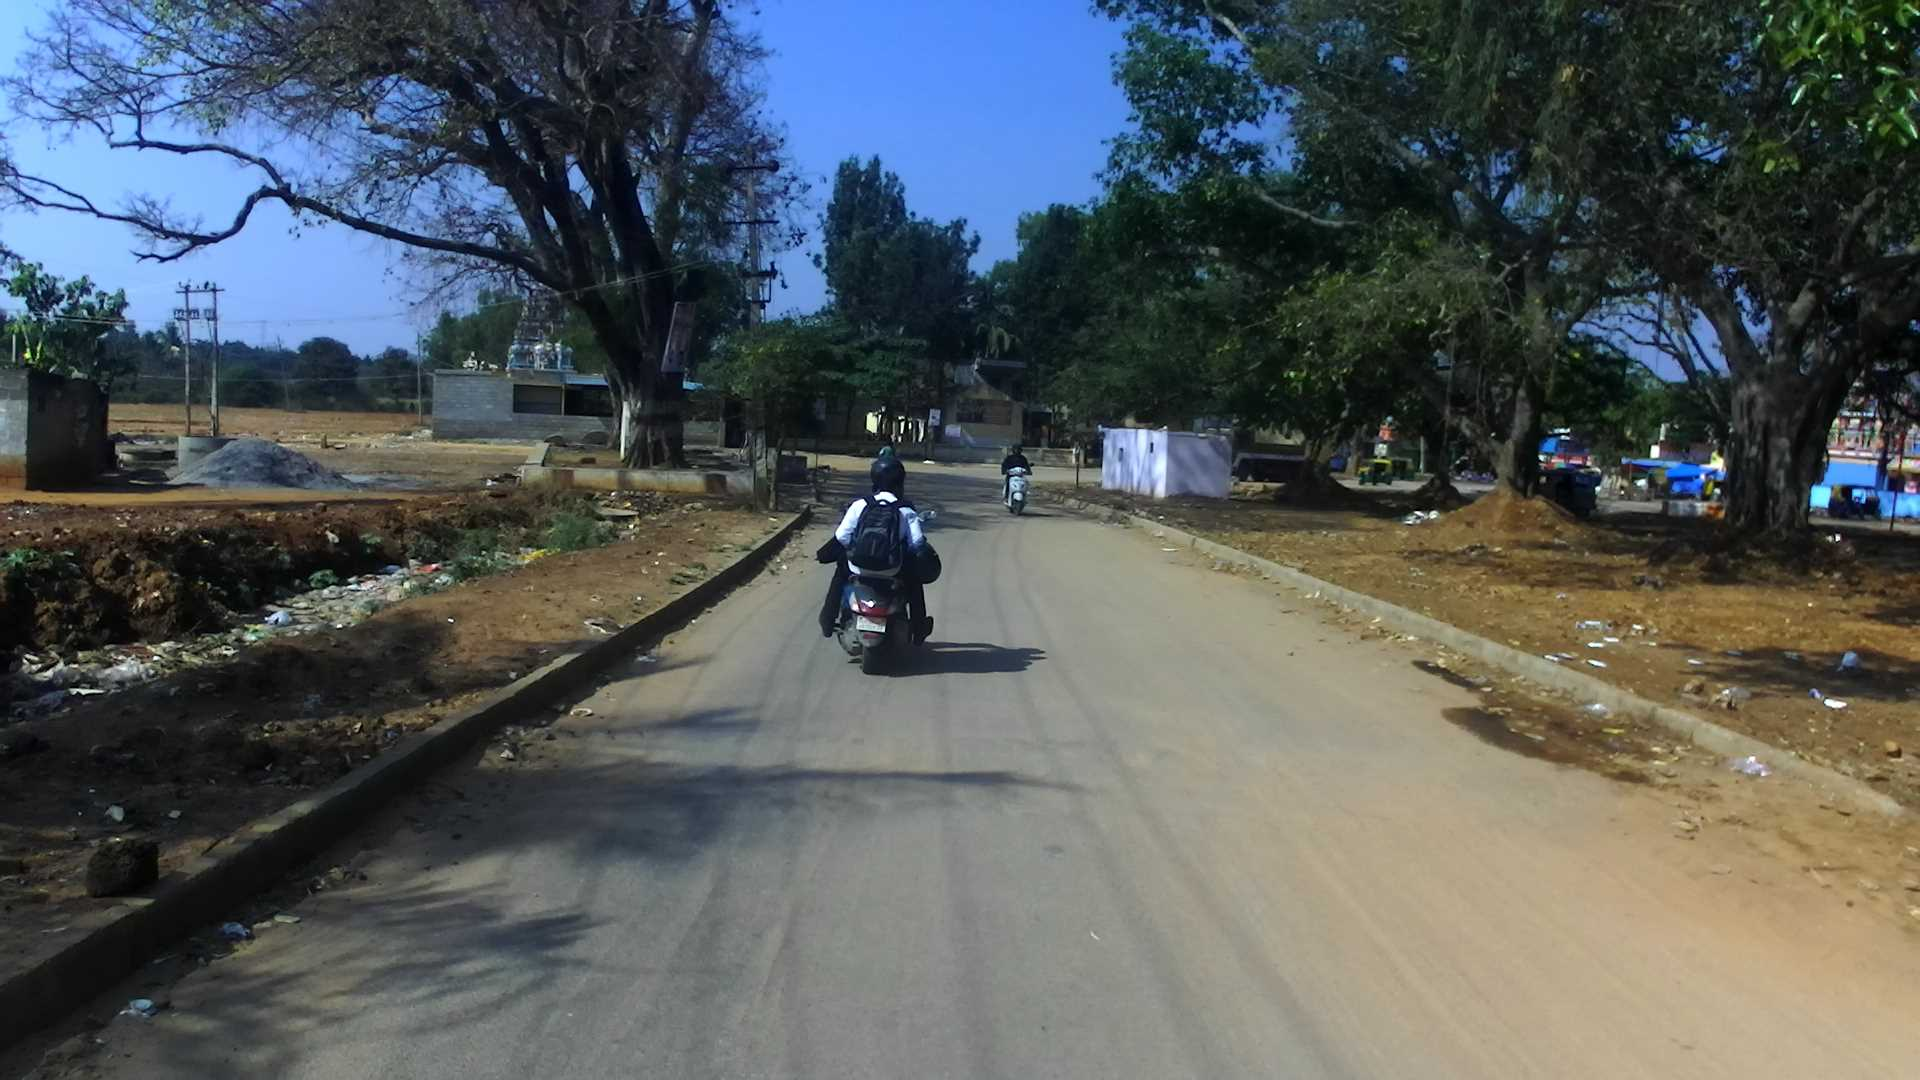bike: (800, 421, 982, 698), (989, 434, 1052, 529)
